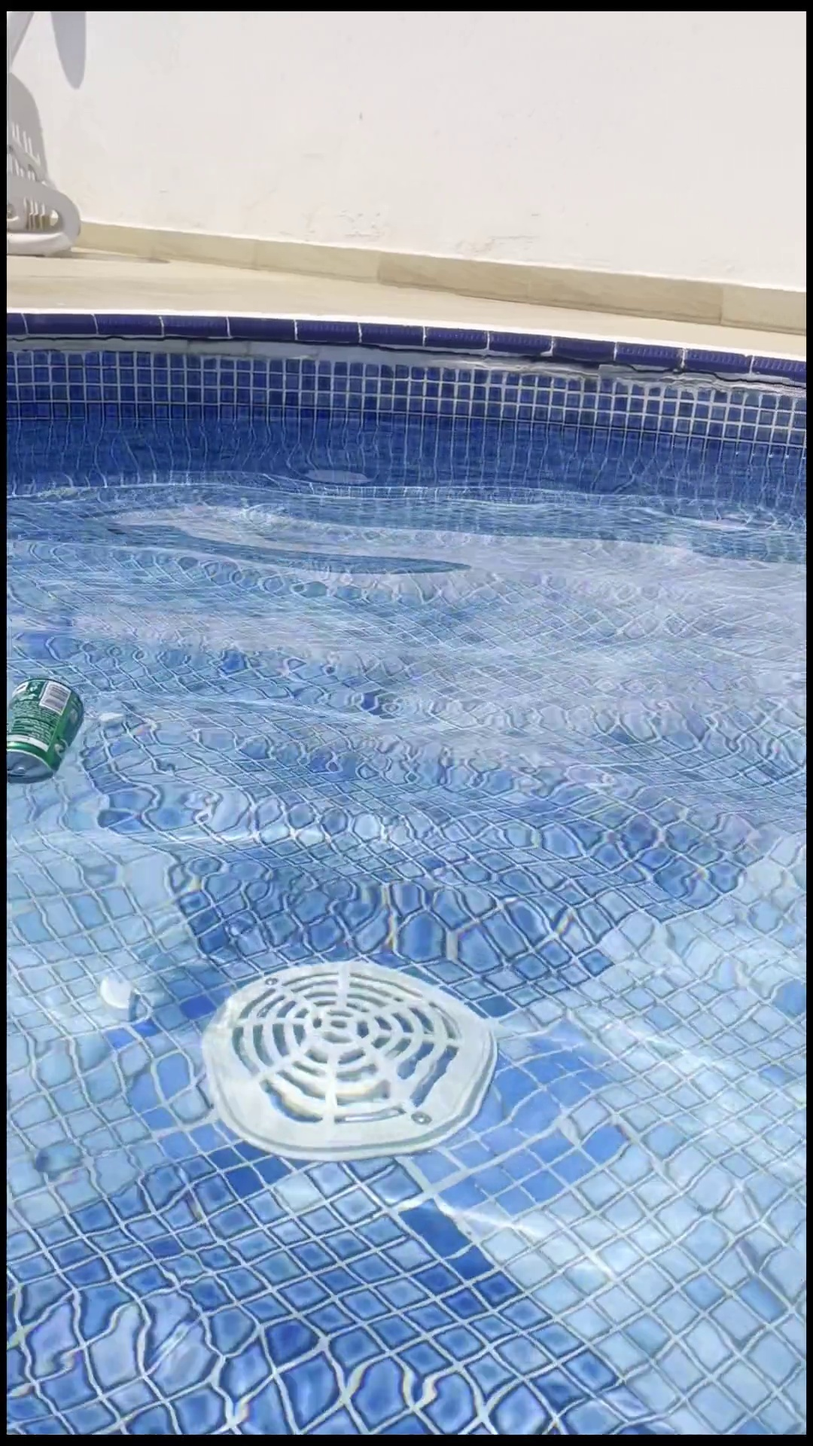debris: (8, 661, 88, 801)
